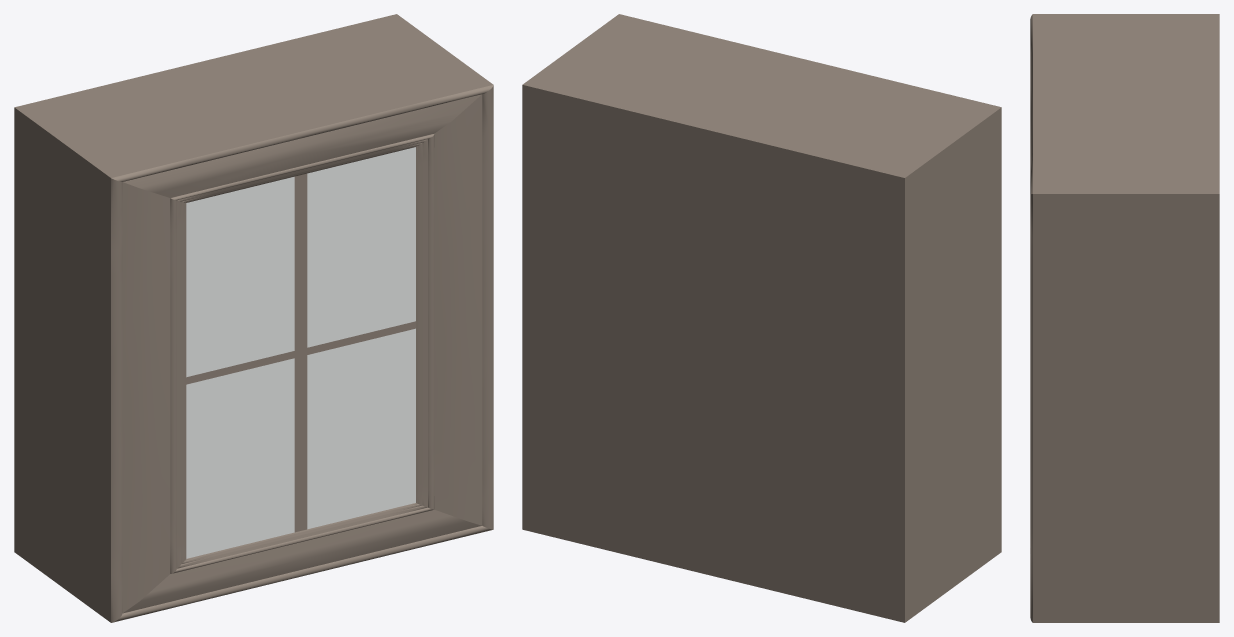
Rendered from Wall-Cabinet-with-Doors-Prepped-for-Glass_std_001_W27in.glb.
3 renders of one model, left to right at view 1: azimuth 30°, elevation 25°; view 2: azimuth 150°, elevation 25°; view 3: azimuth 270°, elevation 25°, orthographic. The views are drawn at different scales.
Parts seen in each view (by area): view 1: Wall-Cabinet-with-Doors-Prepped-for-Glass.std.001_W27in; view 2: Wall-Cabinet-with-Doors-Prepped-for-Glass.std.001_W27in; view 3: Wall-Cabinet-with-Doors-Prepped-for-Glass.std.001_W27in.
Boxes of the visible parts, <box> form: Wall-Cabinet-with-Doors-Prepped-for-Glass.std.001_W27in: <box>14,14,493,622</box>; Wall-Cabinet-with-Doors-Prepped-for-Glass.std.001_W27in: <box>522,14,1001,622</box>; Wall-Cabinet-with-Doors-Prepped-for-Glass.std.001_W27in: <box>1030,14,1219,622</box>.
Size of the model in its own units: 0.6858 by 0.762 by 0.3048.
